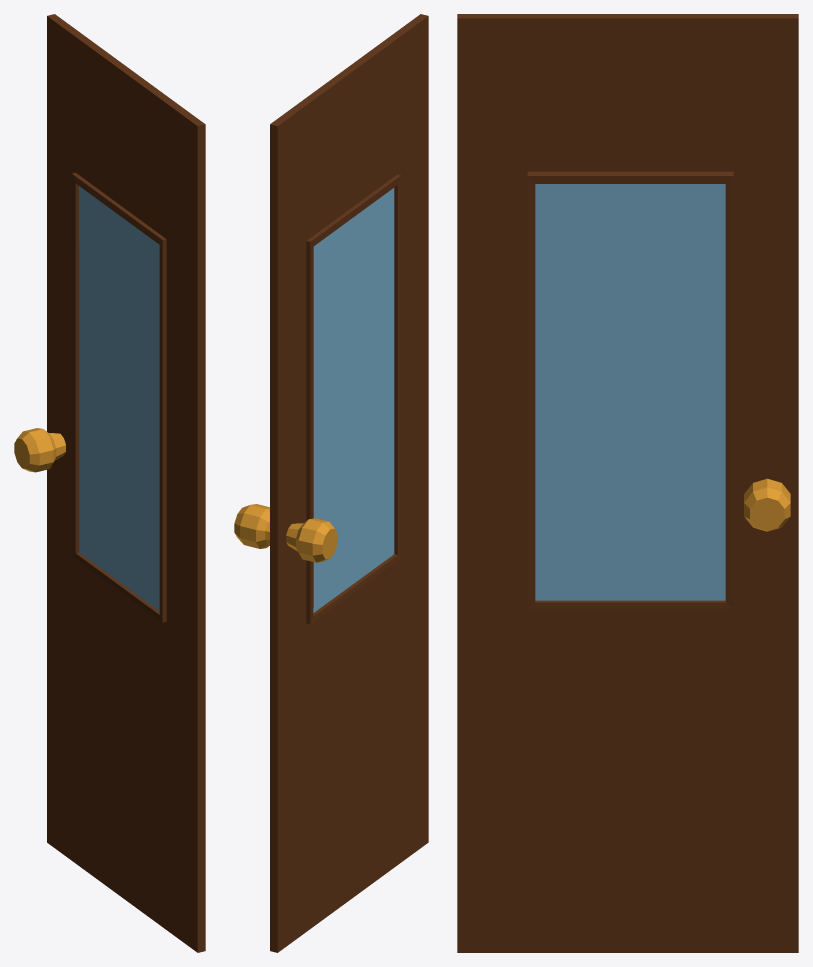
The model's file is Door2.fbx.
3 views of the same model, side by side, from view 1: azimuth 30°, elevation 25°; view 2: azimuth 150°, elevation 25°; view 3: azimuth 270°, elevation 25° (orthographic). The views are drawn at different scales.
Visible parts, largest first — view 1: Door2; view 2: Door2; view 3: Door2.
Boxes of the visible parts, x1=… form: Door2: x1=14, y1=14, x2=205, y2=952; Door2: x1=234, y1=14, x2=428, y2=952; Door2: x1=457, y1=14, x2=798, y2=952.
Bounding box in the file's own units: 22.43 × 201 × 66.47.
